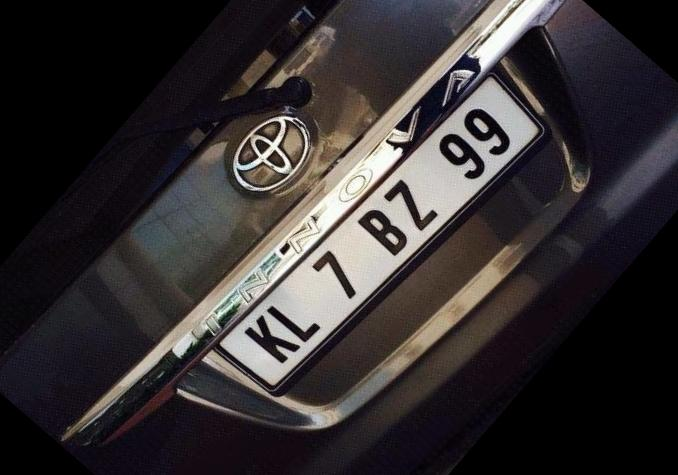plate: (197, 36, 579, 444)
